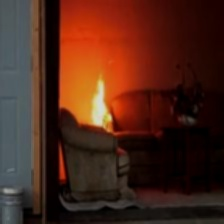fire: (83, 73, 115, 123)
